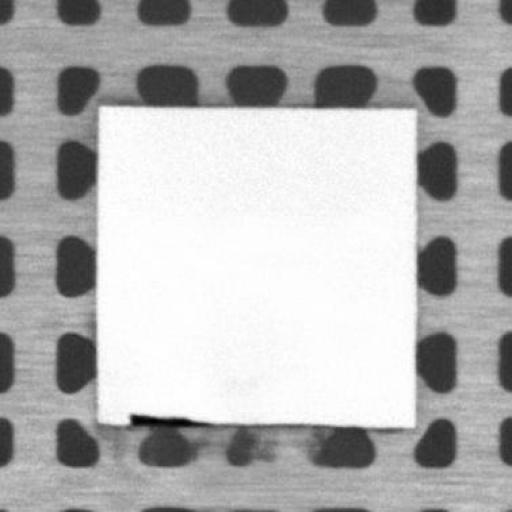DIE_BROKEN: (125, 411, 214, 427)
